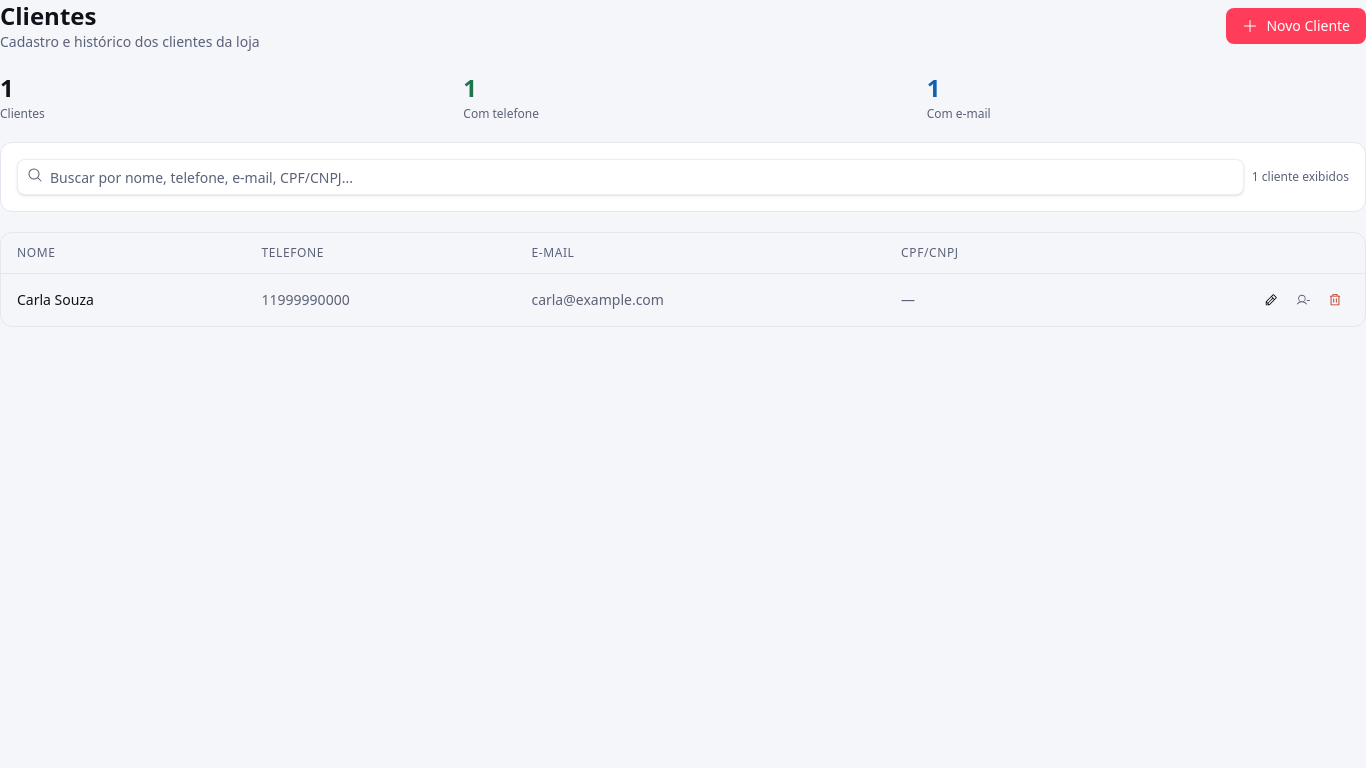
it: Clientes — estados e status semântico (PR 5) › perfil do cliente não fica preso no loading quando a busca de histórico/garantias rejeita (KI-048)
Click the text "Carla Souza" at (55, 300), box [1,274,246,326]
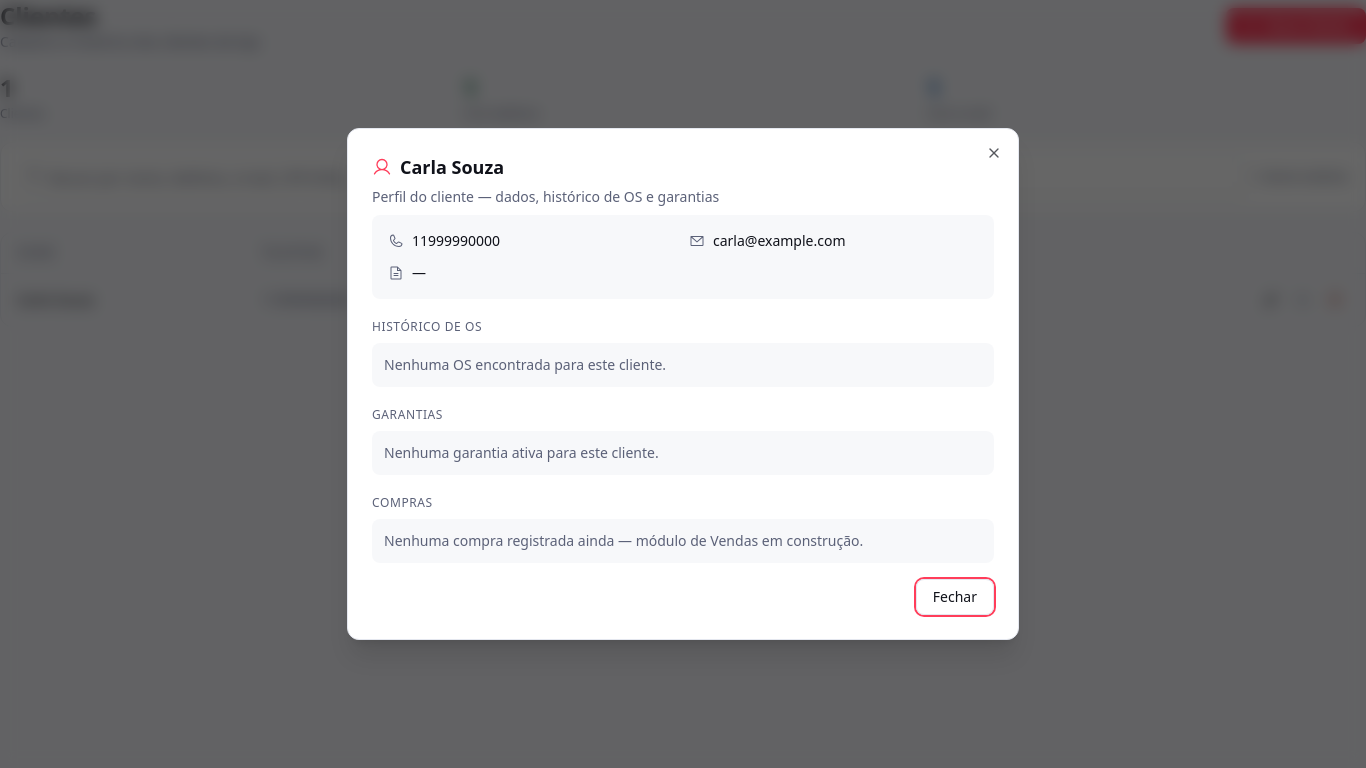
Check: the text "Nenhuma OS encontrada para este cliente." is shown, box [372,343,994,387]
